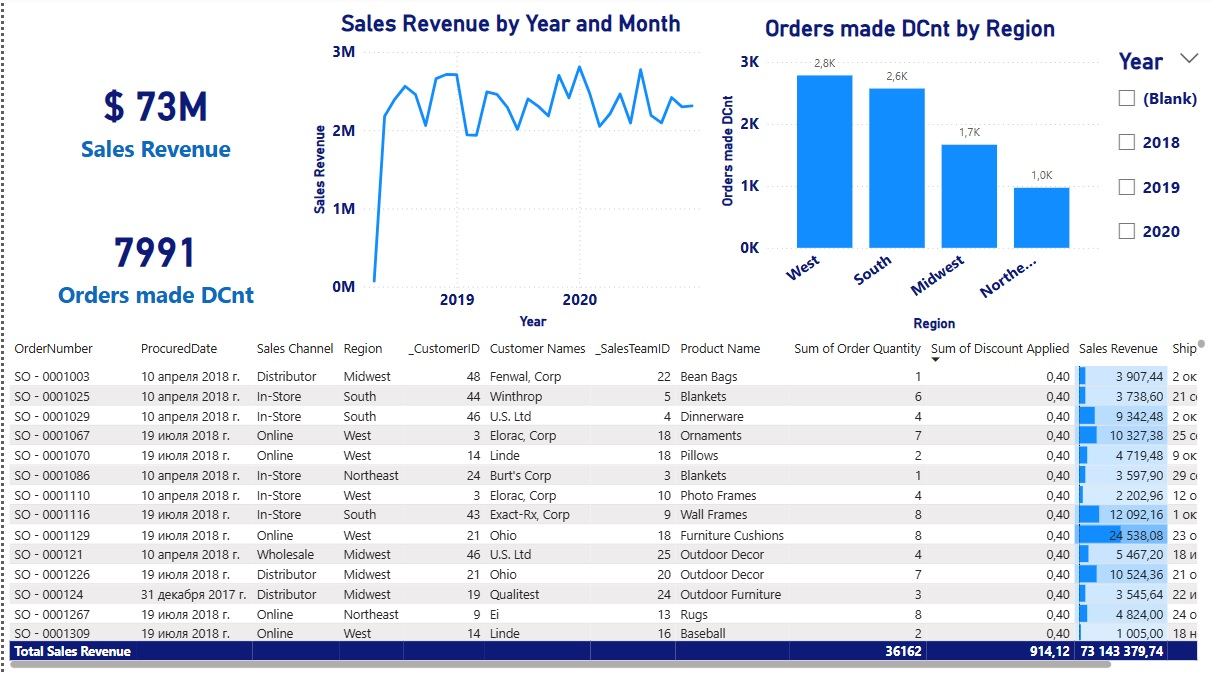

This screenshot's page, from the dashboard's own definition file:
{"tool":"powerbi","page":{"name":"General Sales Overview","canvas":[1280,720],"ordinal":0},"visuals":[{"type":"card","fields":{"Values":["Measures Table.Sales Revenue"]},"box":[0,51.3,321.9,155.8],"z":0},{"type":"card","fields":{"Values":["Measures Table.Order Count"]},"box":[0,207.1,321.9,153.8],"z":1000},{"type":"lineChart","fields":{"Y":["Measures Table.Sales Revenue"],"Category":["DimDate.Date.Variation.Date Hierarchy.Year","DimDate.Date.Variation.Date Hierarchy.Month"]},"box":[321.9,16.4,432.6,342.4],"z":2000},{"type":"clusteredColumnChart","fields":{"Category":["Regions Sheet.Region"],"Y":["Measures Table.Orders made DCnt"]},"box":[754.5,20.5,414.1,340.3],"z":3000},{"type":"tableEx","fields":{"Values":["Sales Orders Sheet.OrderNumber","Sales Orders Sheet.ProcuredDate","Sales Orders Sheet.Sales Channel","Regions Sheet.Region","Sales Orders Sheet._CustomerID","Customers Sheet.Customer Names","Sales Orders Sheet._SalesTeamID","Products Sheet.Product Name","Sum(Sales Orders Sheet.Order Quantity)","Sum(Sales Orders Sheet.Discount Applied)","Measures Table.Sales Revenue","Sales Orders Sheet.ShipDate"]},"box":[0,359.7,1279.3,359.7],"z":4000},{"type":"slicer","fields":{"Values":["DimDate.Year"]},"box":[1168.6,51.3,110.7,309.6],"z":5000}]}

Visuals, with their boxes in screenshot pixels (x1, y1, x2, y2), scaled from the page's 1280x720 canvas onto the 1212x674 screenshot:
card - Measures Table.Sales Revenue: l=0, t=48, r=305, b=194
card - Measures Table.Order Count: l=0, t=194, r=305, b=338
lineChart - Measures Table.Sales Revenue x DimDate.Date.Variation.Date Hierarchy.Year: l=305, t=15, r=714, b=336
clusteredColumnChart - Regions Sheet.Region x Measures Table.Orders made DCnt: l=714, t=19, r=1107, b=338
tableEx - Sales Orders Sheet.OrderNumber x Sales Orders Sheet.ProcuredDate: l=0, t=337, r=1211, b=673
slicer - DimDate.Year: l=1107, t=48, r=1211, b=338
